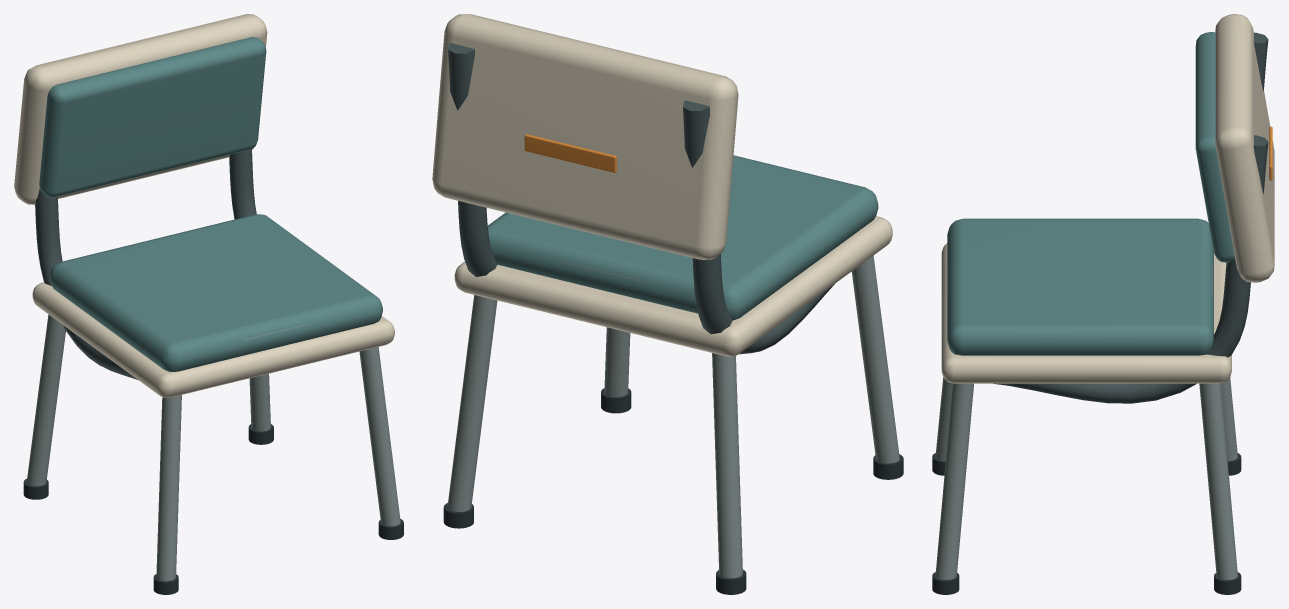
File: dining-chair.glb
3 renders of one model, left to right at view 1: azimuth 30°, elevation 25°; view 2: azimuth 150°, elevation 25°; view 3: azimuth 270°, elevation 25°, orthographic. The views are drawn at different scales.
Visible parts, largest first — view 1: dining-chair / 16 / ocean woven cloth, dining-chair / 01 • warm porcelain paint, dining-chair / 05 • brushed titanium, dining-chair / 06 • dark anodized frame, dining-chair / 04 • graphite gasket; view 2: dining-chair / 01 • warm porcelain paint, dining-chair / 16 / ocean woven cloth, dining-chair / 05 • brushed titanium, dining-chair / 06 • dark anodized frame, dining-chair / 04 • graphite gasket, dining-chair / 03 • ochre enamel; view 3: dining-chair / 16 / ocean woven cloth, dining-chair / 01 • warm porcelain paint, dining-chair / 05 • brushed titanium, dining-chair / 06 • dark anodized frame, dining-chair / 04 • graphite gasket.
Boxes of the visible parts, box(x1,y1,x2,y2) form: dining-chair / 16 / ocean woven cloth: box(39, 37, 382, 371); dining-chair / 01 • warm porcelain paint: box(14, 14, 394, 397); dining-chair / 05 • brushed titanium: box(26, 314, 400, 581); dining-chair / 06 • dark anodized frame: box(35, 148, 256, 379); dining-chair / 04 • graphite gasket: box(23, 424, 403, 594); dining-chair / 01 • warm porcelain paint: box(432, 14, 892, 356); dining-chair / 16 / ocean woven cloth: box(487, 155, 878, 320); dining-chair / 05 • brushed titanium: box(447, 255, 899, 578); dining-chair / 06 • dark anodized frame: box(448, 43, 834, 354); dining-chair / 04 • graphite gasket: box(443, 388, 903, 594); dining-chair / 03 • ochre enamel: box(524, 134, 616, 172); dining-chair / 16 / ocean woven cloth: box(947, 32, 1234, 355); dining-chair / 01 • warm porcelain paint: box(941, 14, 1274, 383); dining-chair / 05 • brushed titanium: box(935, 377, 1237, 580); dining-chair / 06 • dark anodized frame: box(993, 32, 1268, 403); dining-chair / 04 • graphite gasket: box(932, 453, 1241, 594).
Size of the model in its own units: 0.5216 by 0.8539 by 0.5782.
